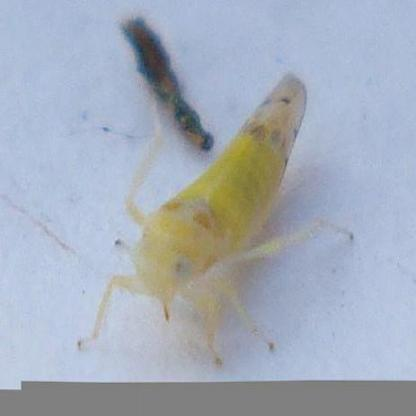green-leafhopper: (101, 65, 310, 338)
